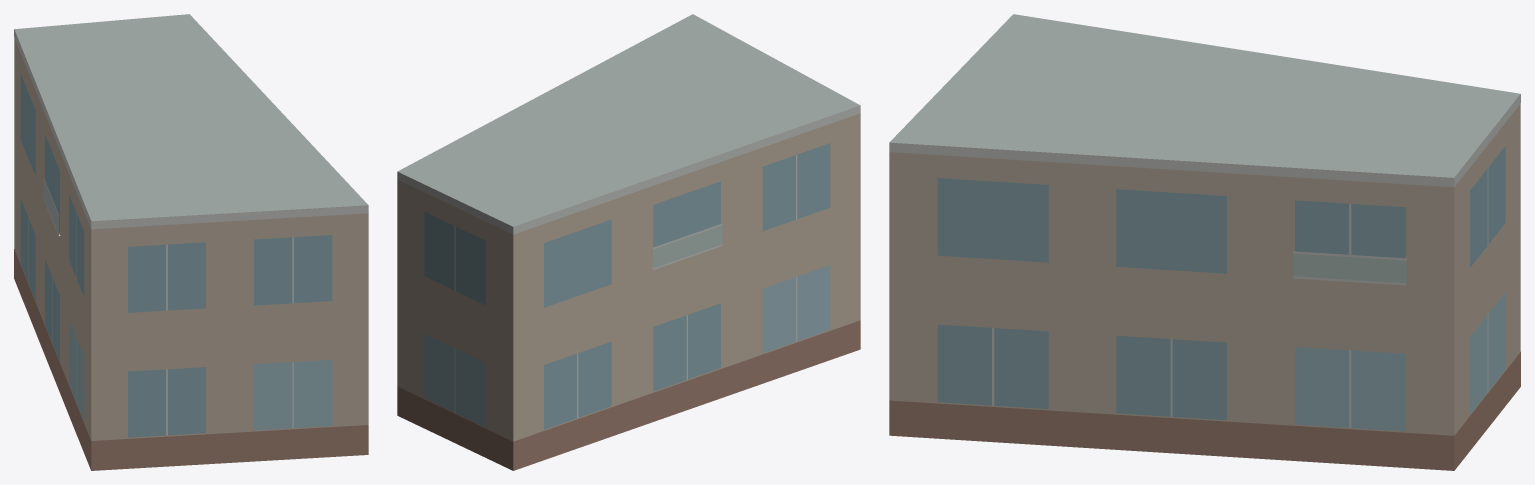
File: survey-upis-32491243.glb
3 views of the same model, side by side, from view 1: azimuth 30°, elevation 25°; view 2: azimuth 150°, elevation 25°; view 3: azimuth 270°, elevation 25° (orthographic). The views are drawn at different scales.
Visible parts, largest first — view 1: survey-upis-32491243.tmp; view 2: survey-upis-32491243.tmp; view 3: survey-upis-32491243.tmp.
Boxes of the visible parts, <box> form: survey-upis-32491243.tmp: <box>14,14,368,470</box>; survey-upis-32491243.tmp: <box>397,14,860,470</box>; survey-upis-32491243.tmp: <box>889,14,1520,470</box>.
Size of the model in its own units: 9.13 by 7.6 by 14.86.
